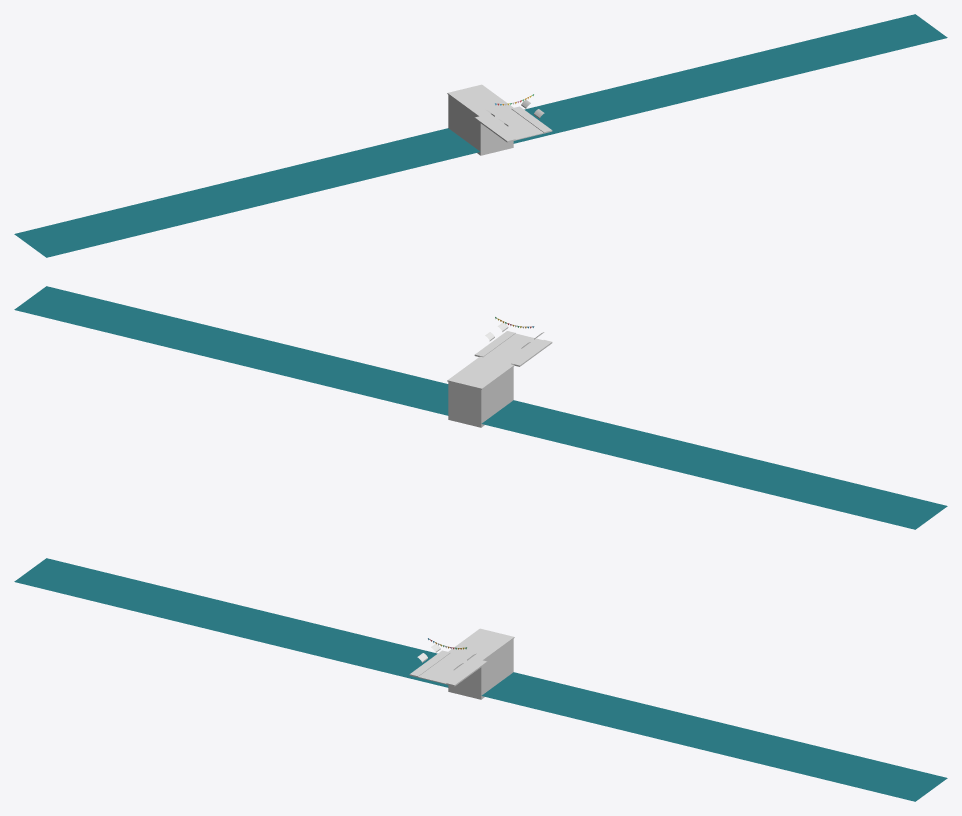
The model's file is Harita_13_Gecis_Mahalle_Sur_Ozel.fbx.
3 views of the same model, one above another, from view 1: azimuth 30°, elevation 25°; view 2: azimuth 150°, elevation 25°; view 3: azimuth 330°, elevation 25° (orthographic).
Visible parts, largest first — view 1: Harita_13_Deniz.001, Harita_13_Sur_Govde.001, Harita_13_Sur_Ustu_Yol.001, Harita_13_Yol.001; view 2: Harita_13_Deniz.001, Harita_13_Sur_Govde.001, Harita_13_Sur_Ustu_Yol.001, Harita_13_Yol.001; view 3: Harita_13_Deniz.001, Harita_13_Sur_Govde.001, Harita_13_Sur_Ustu_Yol.001, Harita_13_Yol.001.
Boxes of the visible parts, x1,y1,x2,y2 form: Harita_13_Deniz.001: [14, 14, 947, 257]; Harita_13_Sur_Govde.001: [448, 95, 513, 155]; Harita_13_Sur_Ustu_Yol.001: [447, 84, 513, 116]; Harita_13_Yol.001: [484, 109, 543, 140]; Harita_13_Deniz.001: [14, 286, 947, 529]; Harita_13_Sur_Govde.001: [448, 367, 513, 427]; Harita_13_Sur_Ustu_Yol.001: [447, 356, 514, 389]; Harita_13_Yol.001: [483, 333, 542, 363]; Harita_13_Deniz.001: [14, 558, 947, 801]; Harita_13_Sur_Govde.001: [448, 639, 513, 699]; Harita_13_Sur_Ustu_Yol.001: [448, 628, 514, 660]; Harita_13_Yol.001: [418, 653, 477, 684].
Bounding box in the file's own units: 240 × 16.8 × 30.
